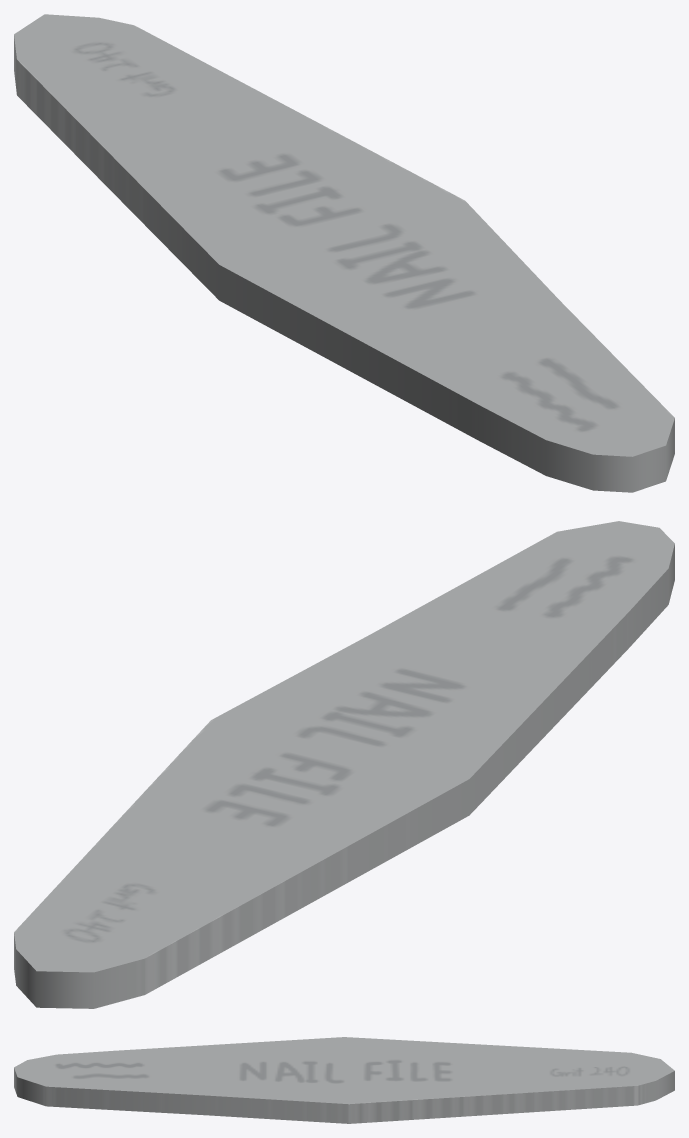
File: nailfile.glb
3 renders of one model, top to bottom at view 1: azimuth 30°, elevation 25°; view 2: azimuth 150°, elevation 25°; view 3: azimuth 270°, elevation 25°, orthographic. The views are drawn at different scales.
Parts seen in each view (by area): view 1: Plane; view 2: Plane; view 3: Plane.
Part boxes in pixels (left/top/right/bottom): Plane: left=14, top=14, right=674, bottom=492; Plane: left=14, top=521, right=674, bottom=1008; Plane: left=14, top=1037, right=674, bottom=1123.
Size of the model in its own units: 0.1868 by 0.0256 by 0.7768.
Materials: 1 (1 with a texture image).
